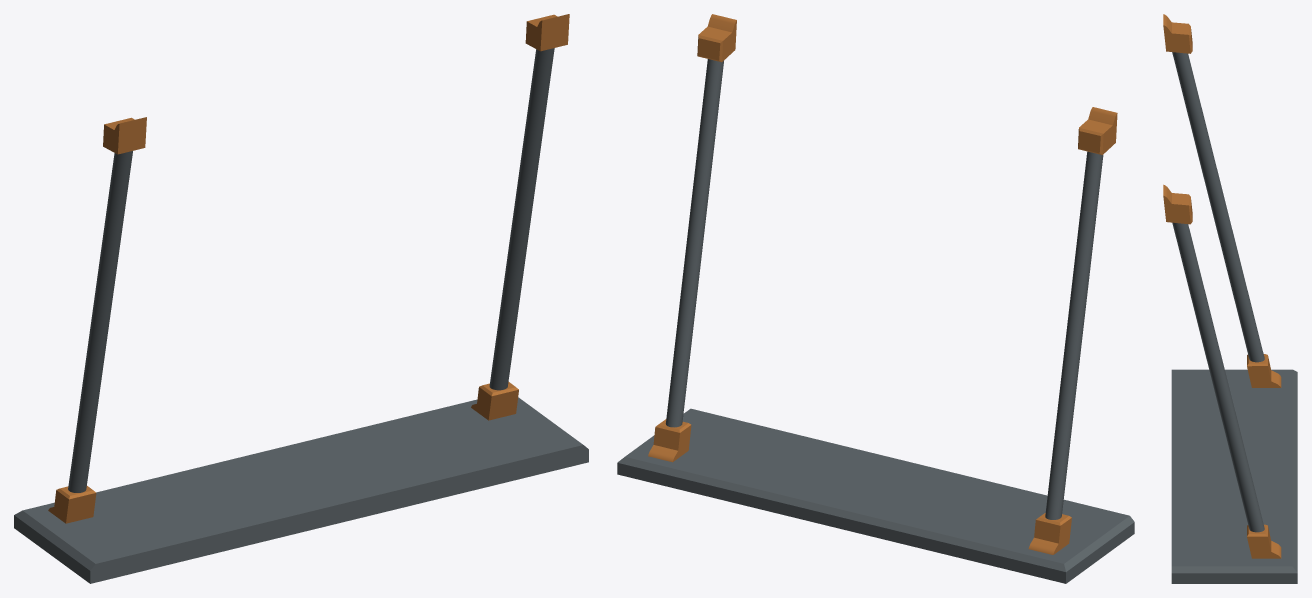
File: STM_CellarChair.fbx
3 views of the same model, side by side, from view 1: azimuth 30°, elevation 25°; view 2: azimuth 150°, elevation 25°; view 3: azimuth 270°, elevation 25° (orthographic). The views are drawn at different scales.
Visible parts, largest first — view 1: polySurface57; view 2: polySurface57; view 3: polySurface57.
Boxes of the visible parts, x1,y1,x2,y2 form: polySurface57: (14,14,588,583); polySurface57: (617,14,1134,583); polySurface57: (1163,14,1297,583).
Size of the model in its own units: 1.58 by 1.39 by 0.4464.
